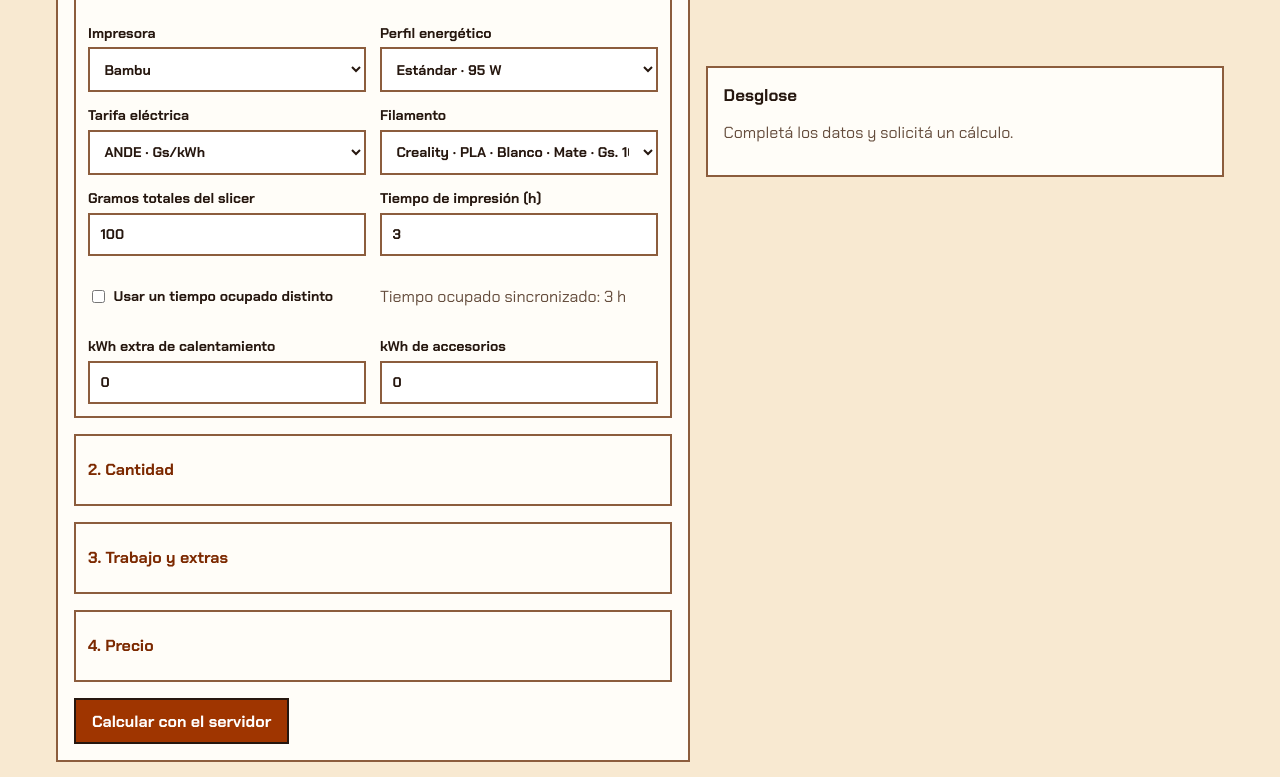
precio avanzado vigente › borra el resultado anterior durante un cálculo y mantiene el error como alerta
(page scrolled)
Click the button "Calcular con el servidor".
click(182, 721)  # box [74, 698, 289, 744]
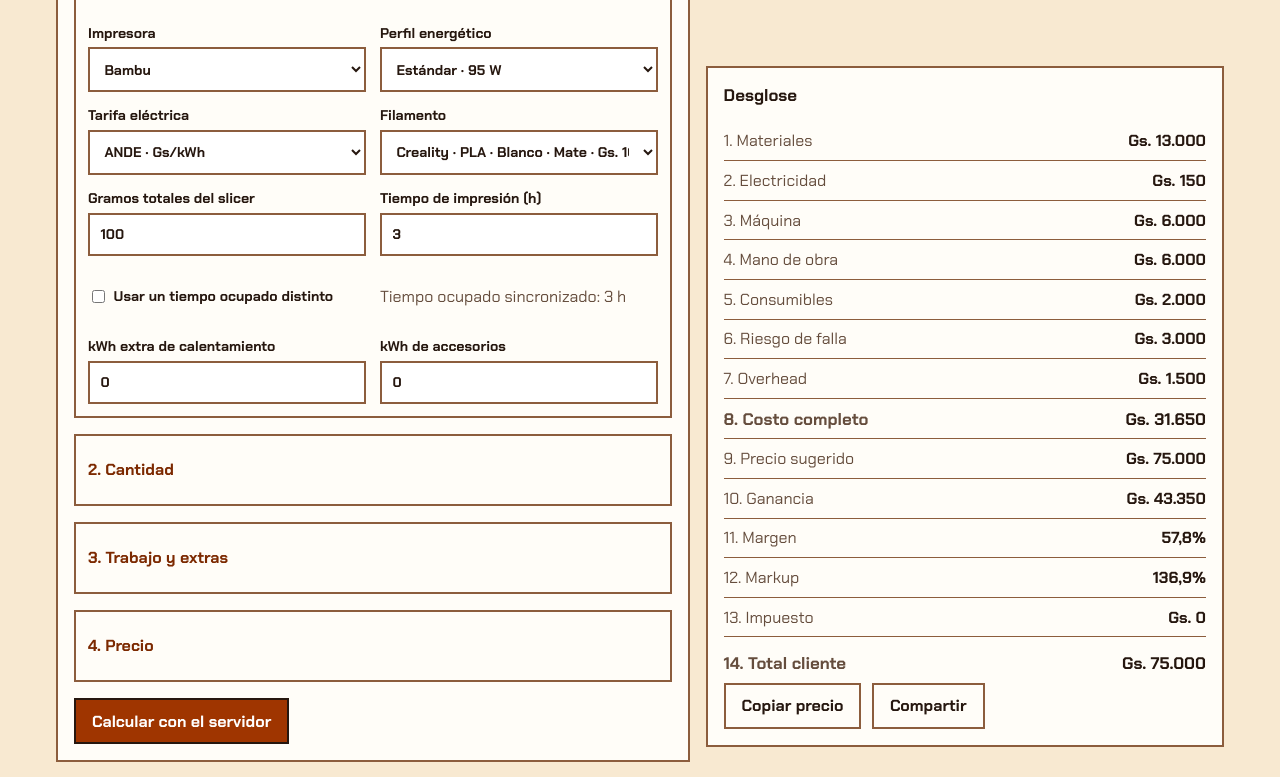
Click the button "Calcular con el servidor".
click(182, 721)  # box [74, 698, 289, 744]
(page scrolled)
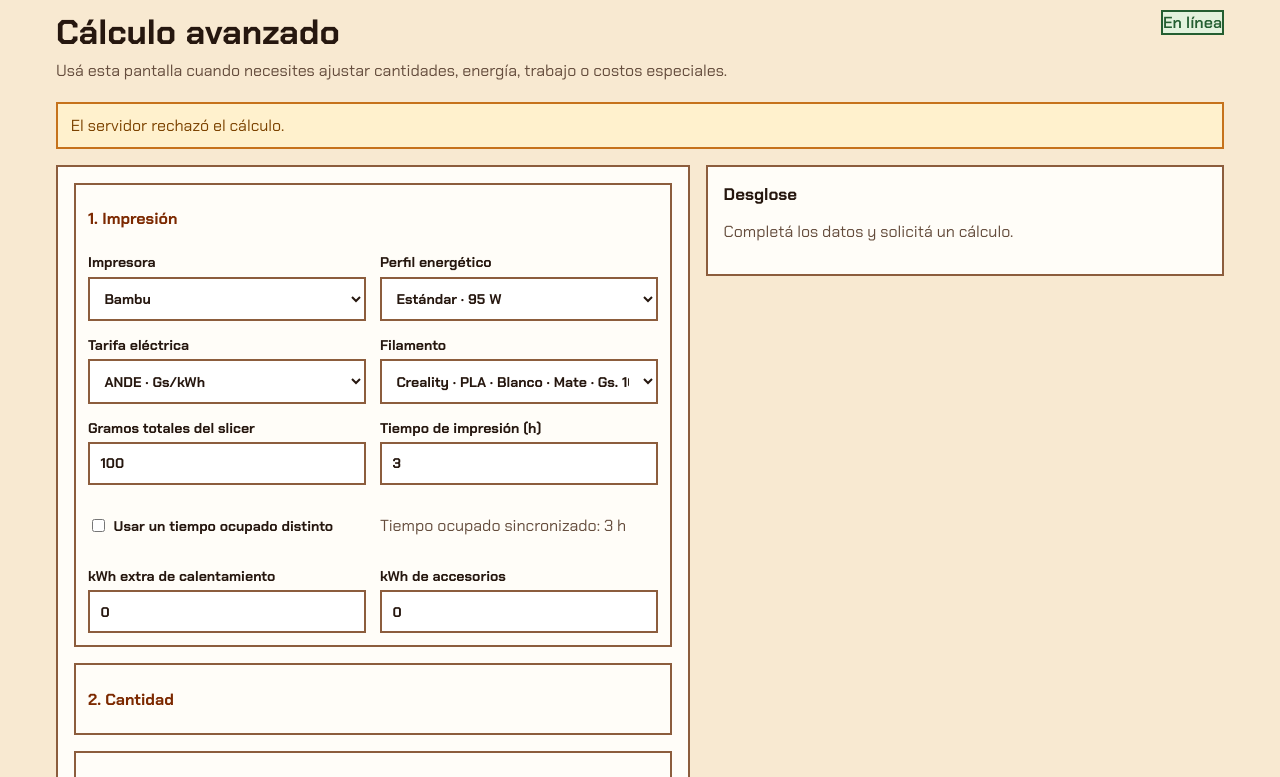
Expected: the button "Copiar precio" is gone
Expected: the message reads "El servidor rechazó el cálculo.", [71, 115, 284, 136]
Expected: the text "Gs. 75.000" is not shown
